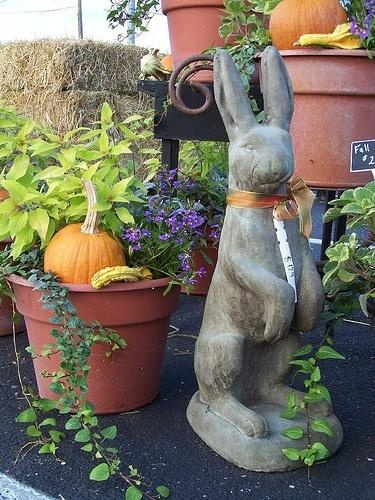pottedplant: (8, 127, 205, 419), (256, 1, 375, 189), (107, 1, 259, 81), (180, 142, 230, 296)
